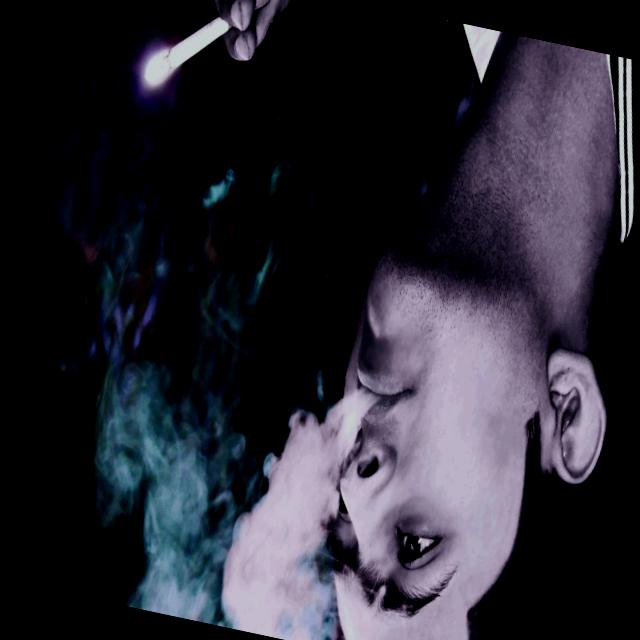smoke: (110, 0, 277, 135)
